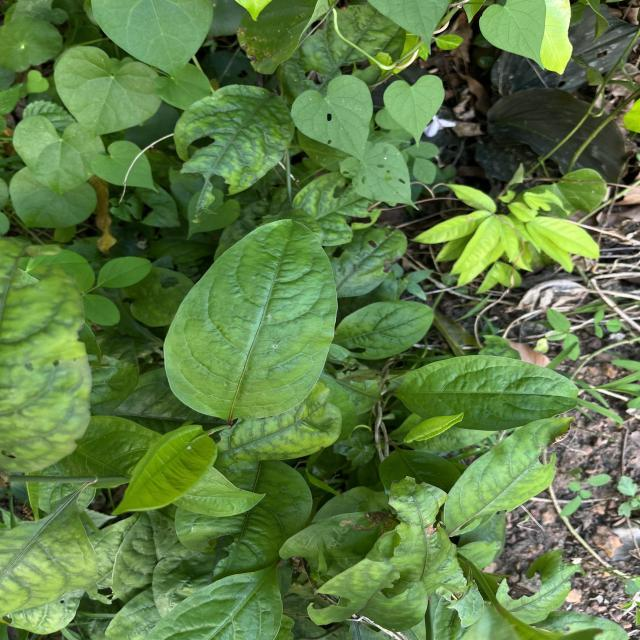Plumbago indica: (160, 213, 340, 425), (170, 78, 299, 204), (388, 353, 590, 433), (102, 421, 222, 521), (337, 298, 433, 359)
